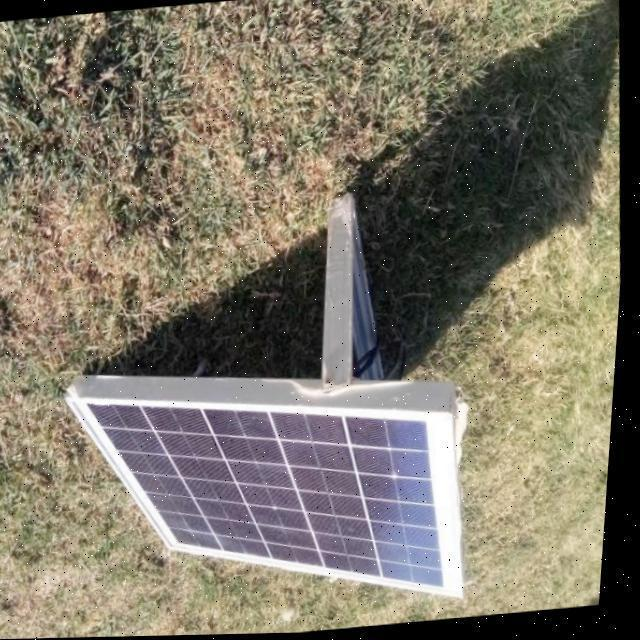Normal Solar Panel: (58, 360, 483, 634)
